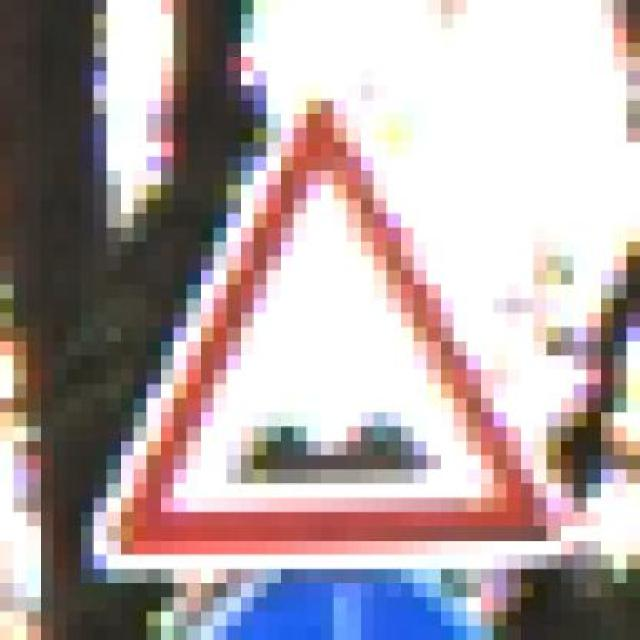Uneven Road: (66, 85, 574, 569)
